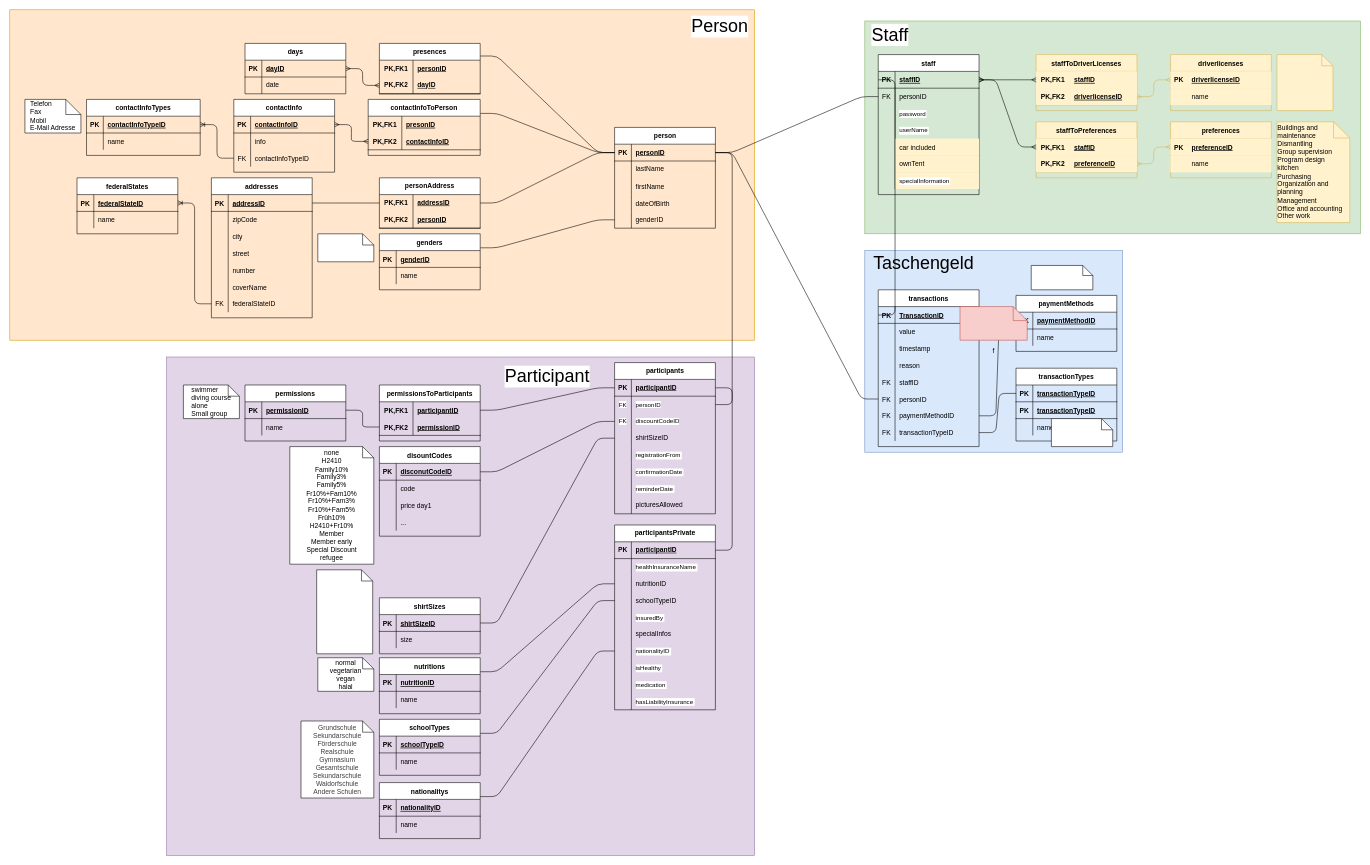
This 1370x865 diagram has some shape labels left out. The centre of each missing label's shape, as x and y in pixels:
"118-128 130-140 142-152 XS S M L XL XXL XXXL" belongs at point (344, 611).
"B BE C1 C1E C CE" belongs at point (1304, 82).
"Cash Bank Transaction Advertisement" belongs at point (1062, 277).
"claim Payment return payment" belongs at point (1082, 432).
"Hier Fehlen Kassenzählungen" belongs at point (993, 323).
"male female diverse" belongs at point (345, 247).
